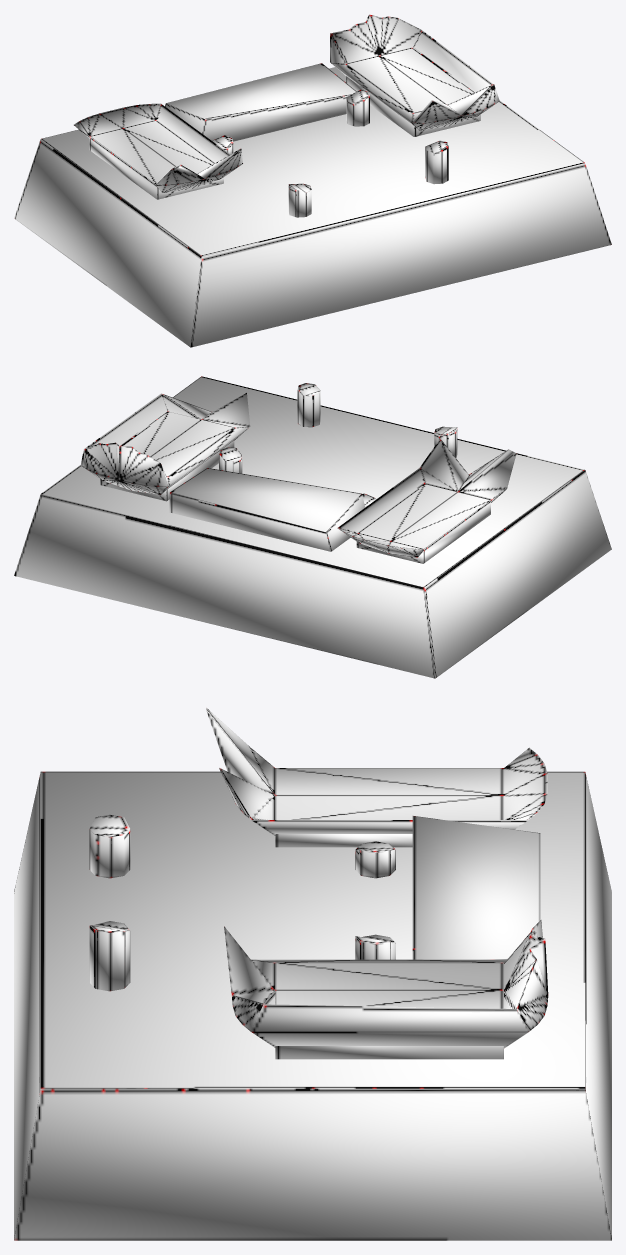
The model's file is fueldepot_base.fbx.
3 renders of one model, top to bottom at view 1: azimuth 30°, elevation 25°; view 2: azimuth 150°, elevation 25°; view 3: azimuth 270°, elevation 25°, orthographic. The views are drawn at different scales.
Visible parts, largest first — view 1: base; view 2: base; view 3: base.
Part boxes in pixels (x1=…): base: x1=14, y1=14, x2=611, y2=347; base: x1=14, y1=376, x2=611, y2=678; base: x1=14, y1=708, x2=611, y2=1240.
Bounding box in the file's own units: 5.2 × 1.61 × 3.78.
1 material, 1 textured.
